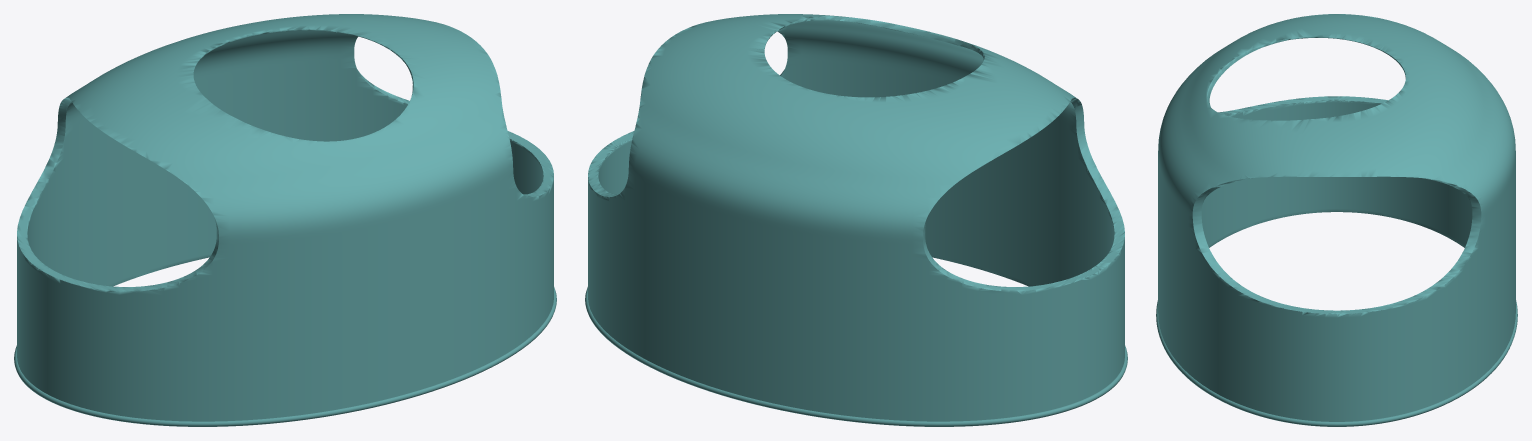
File: Masculine-tank-top.glb
3 renders of one model, left to right at view 1: azimuth 30°, elevation 25°; view 2: azimuth 150°, elevation 25°; view 3: azimuth 270°, elevation 25°, orthographic. The views are drawn at different scales.
Visible parts, largest first — view 1: Clothing / tank, Shirt / hem export; view 2: Clothing / tank, Shirt / hem export; view 3: Clothing / tank, Shirt / hem export.
Boxes of the visible parts, x1=… form: Clothing / tank: x1=17, y1=14, x2=553, y2=421; Shirt / hem export: x1=14, y1=287, x2=556, y2=426; Clothing / tank: x1=588, y1=14, x2=1124, y2=421; Shirt / hem export: x1=585, y1=287, x2=1127, y2=426; Clothing / tank: x1=1158, y1=14, x2=1515, y2=421; Shirt / hem export: x1=1156, y1=300, x2=1517, y2=426.
Bounding box in the file's own units: 0.772 × 0.3934 × 0.536.
